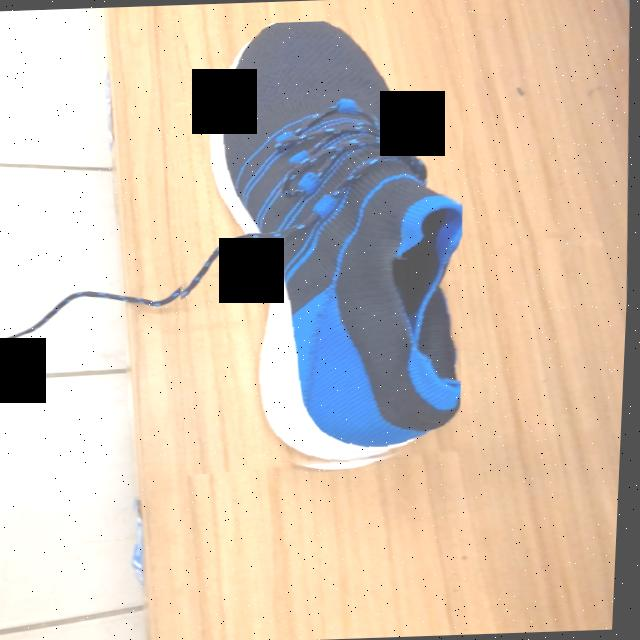shoe: (181, 21, 464, 464)
